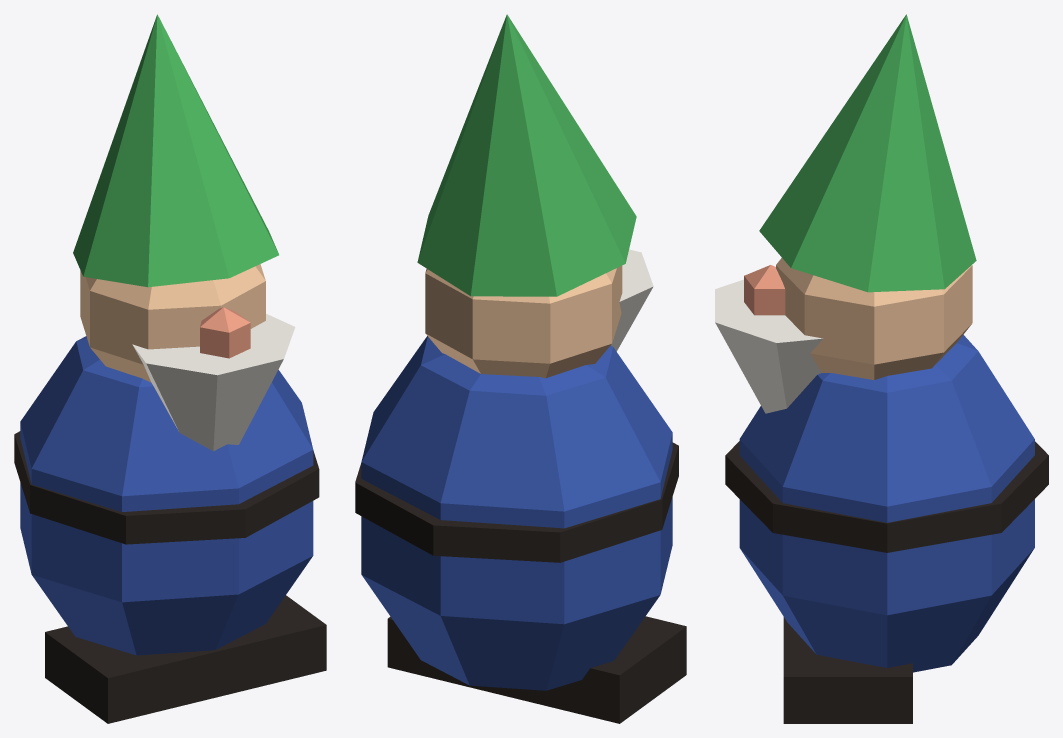
File: garden_gnome_2.glb
3 views of the same model, side by side, from view 1: azimuth 30°, elevation 25°; view 2: azimuth 150°, elevation 25°; view 3: azimuth 270°, elevation 25° (orthographic). The views are drawn at different scales.
Visible parts, largest first — view 1: body_gnome_coat, hat, boots_gnome_boots, head_gnome_skin, beard_gnome_beard, belt_gnome_belt, nose_gnome_nose; view 2: body_gnome_coat, hat, head_gnome_skin, belt_gnome_belt, boots_gnome_boots, beard_gnome_beard; view 3: body_gnome_coat, hat, head_gnome_skin, belt_gnome_belt, boots_gnome_boots, beard_gnome_beard, nose_gnome_nose.
Part boxes in pixels (box(x1,y1,x2,y2)): body_gnome_coat: box(20, 336, 313, 655); hat: box(73, 14, 278, 287); boots_gnome_boots: box(45, 595, 326, 723); head_gnome_skin: box(80, 264, 265, 382); beard_gnome_beard: box(132, 313, 295, 451); belt_gnome_belt: box(14, 431, 319, 544); nose_gnome_nose: box(200, 307, 250, 358); body_gnome_coat: box(361, 336, 672, 690); hat: box(417, 14, 636, 296); head_gnome_skin: box(425, 265, 622, 378); belt_gnome_belt: box(355, 442, 678, 562); boots_gnome_boots: box(387, 616, 686, 723); beard_gnome_beard: box(611, 249, 653, 351); body_gnome_coat: box(739, 335, 1034, 672); hat: box(759, 14, 976, 292); head_gnome_skin: box(776, 258, 972, 379); belt_gnome_belt: box(725, 441, 1048, 552); boots_gnome_boots: box(783, 617, 912, 723); beard_gnome_beard: box(715, 279, 823, 413); nose_gnome_nose: box(744, 265, 785, 315).
Bounding box in the file's own units: 0.25 × 0.5589 × 0.2581.
